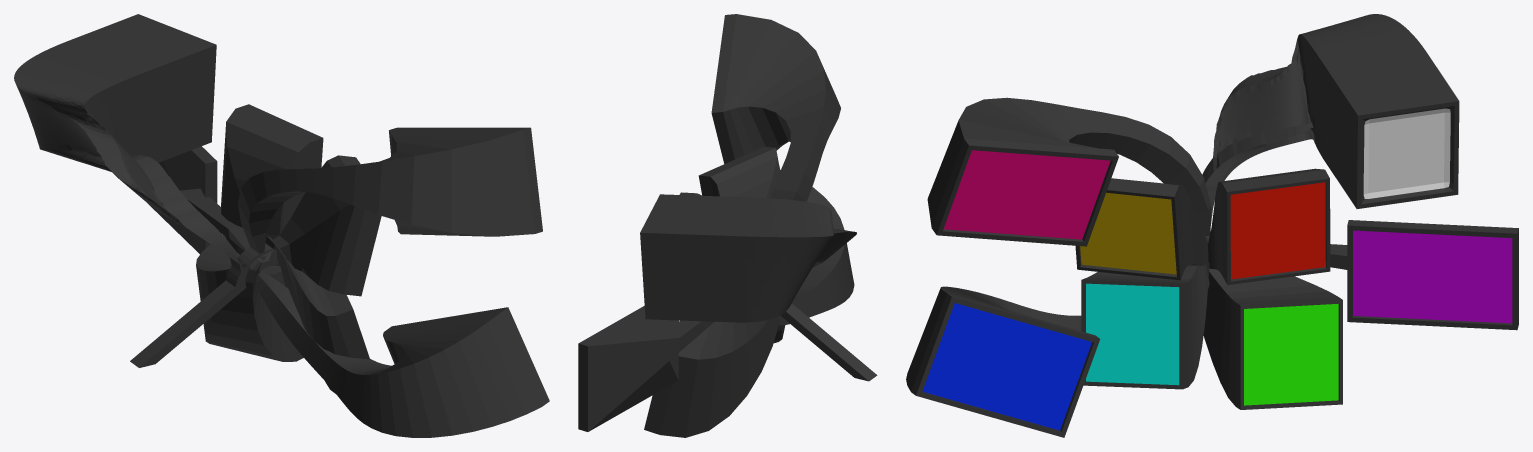
The model's file is Сладость_Вкусность.fbx.
3 views of the same model, side by side, from view 1: azimuth 30°, elevation 25°; view 2: azimuth 150°, elevation 25°; view 3: azimuth 270°, elevation 25° (orthographic). The views are drawn at different scales.
Parts seen in each view (by area): view 1: Ну...Наверное это корпус, не знаю; view 2: Ну...Наверное это корпус, не знаю; view 3: Ну...Наверное это корпус, не знаю, Экран_Справа_Снизу, Экран слева снизу, Экран слева сверху.001, Экран_Центр_Справа_Снизу, Экран_Центр_Слева_Снизу, Экран_Центр_Справа сверху, Экран справа сверху, Экран_Центр_Слева_Сверху.
Boxes of the visible parts, x1=… form: Ну...Наверное это корпус, не знаю: x1=14, y1=14, x2=549, y2=437; Ну...Наверное это корпус, не знаю: x1=578, y1=14, x2=877, y2=437; Ну...Наверное это корпус, не знаю: x1=906, y1=14, x2=1518, y2=437; Экран_Справа_Снизу: x1=1353, y1=230, x2=1512, y2=323; Экран слева снизу: x1=922, y1=303, x2=1091, y2=430; Экран слева сверху.001: x1=943, y1=150, x2=1110, y2=239; Экран_Центр_Справа_Снизу: x1=1244, y1=304, x2=1338, y2=405; Экран_Центр_Слева_Снизу: x1=1086, y1=283, x2=1179, y2=385; Экран_Центр_Справа сверху: x1=1230, y1=182, x2=1325, y2=279; Экран справа сверху: x1=1363, y1=108, x2=1450, y2=198; Экран_Центр_Слева_Сверху: x1=1080, y1=192, x2=1176, y2=274.
Size of the model in its own units: 691 by 665 by 1151.
